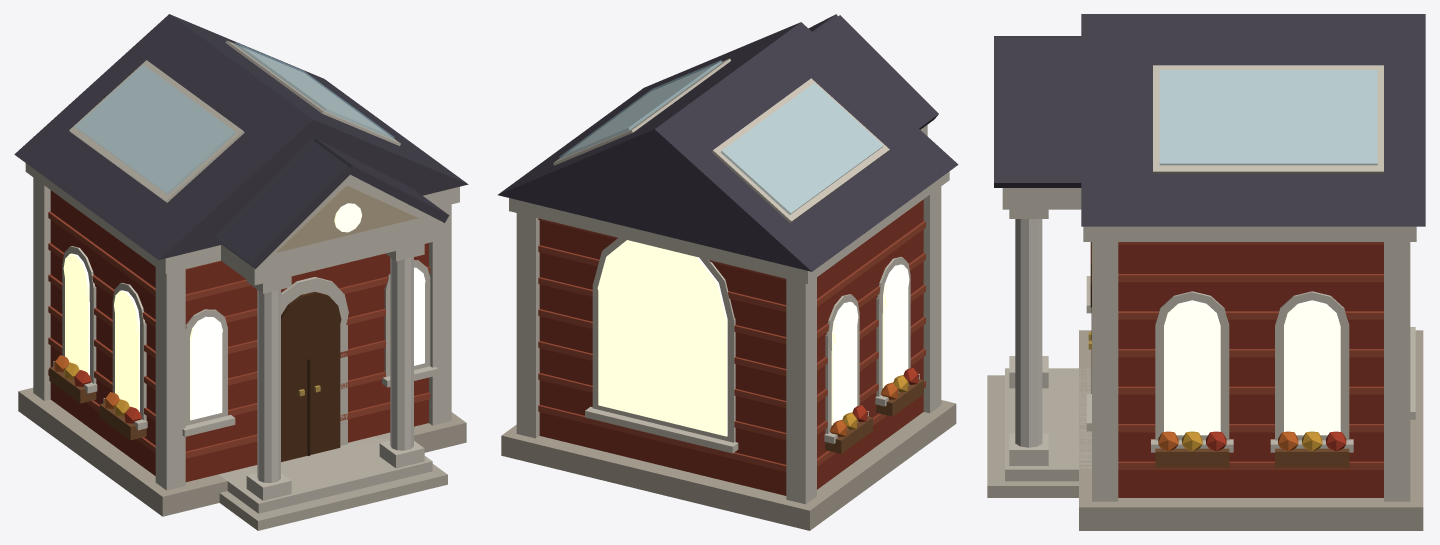
The model's file is c-gallery.glb.
3 renders of one model, left to right at view 1: azimuth 30°, elevation 25°; view 2: azimuth 150°, elevation 25°; view 3: azimuth 270°, elevation 25°, orthographic. The views are drawn at different scales.
Visible parts, largest first — view 1: c-gallery; view 2: c-gallery; view 3: c-gallery.
Part boxes in pixels (left/top/right/bottom): c-gallery: left=14, top=14, right=468, bottom=530; c-gallery: left=498, top=14, right=958, bottom=530; c-gallery: left=987, top=14, right=1425, bottom=530.
Size of the model in its own units: 1.96 by 2.17 by 2.01.
